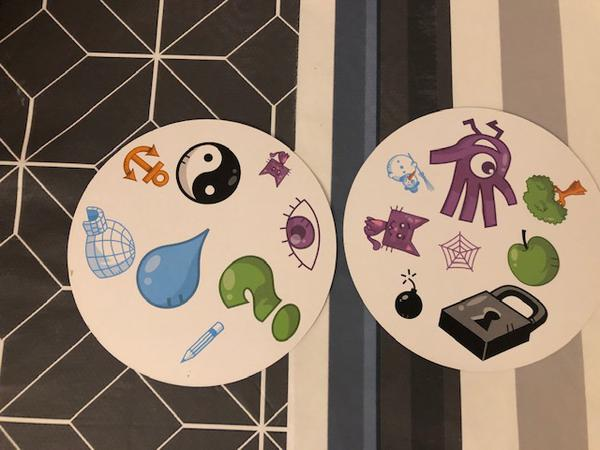ancre: (122, 141, 171, 188)
arbre: (520, 169, 590, 229)
bombe: (389, 267, 427, 320)
bonhomme_neige: (378, 143, 432, 198)
cadenas: (432, 284, 543, 363)
chat: (359, 201, 432, 259), (256, 146, 293, 188)
crayon: (176, 319, 225, 365)
dooble: (424, 108, 526, 228)
goutte: (131, 223, 214, 310)
igloo: (78, 200, 141, 280)
oeuil: (273, 194, 318, 273)
point_interrogation: (215, 254, 308, 340)
pomme: (504, 227, 562, 288)
toile: (436, 228, 483, 273)
ying_yang: (169, 139, 246, 207)
